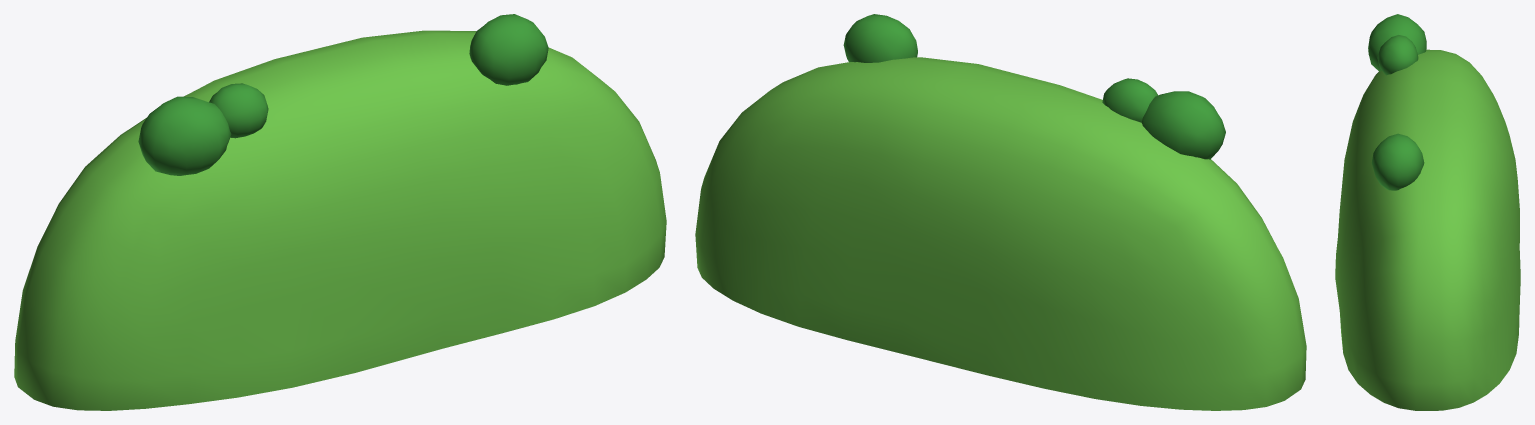
Rendered from hill_a.glb.
3 renders of one model, left to right at view 1: azimuth 30°, elevation 25°; view 2: azimuth 150°, elevation 25°; view 3: azimuth 270°, elevation 25°, orthographic. The views are drawn at different scales.
Visible parts, largest first — view 1: hill_a; view 2: hill_a; view 3: hill_a.
Boxes of the visible parts, x1,y1,x2,y2 form: hill_a: (14, 14, 666, 410); hill_a: (695, 14, 1306, 410); hill_a: (1335, 14, 1520, 410).
Bounding box in the file's own units: 23.84 × 10.05 × 7.96.
